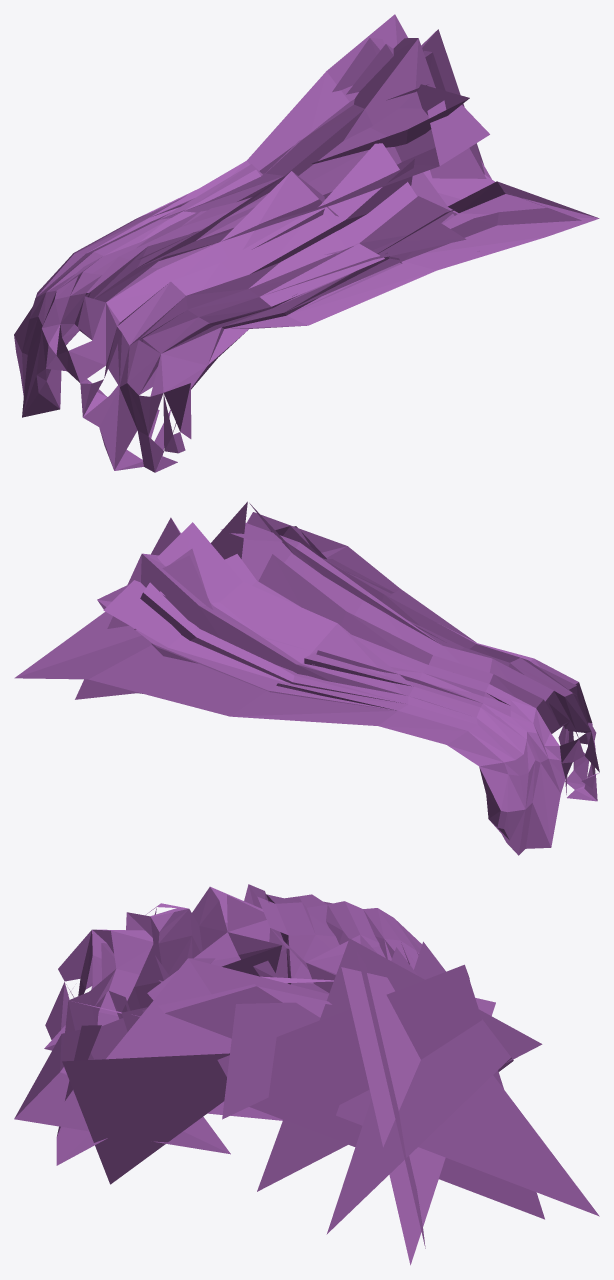
File: cape_purple.glb
3 renders of one model, top to bottom at view 1: azimuth 30°, elevation 25°; view 2: azimuth 150°, elevation 25°; view 3: azimuth 270°, elevation 25°, orthographic. The views are drawn at different scales.
Parts seen in each view (by area): view 1: group85531295; view 2: group85531295; view 3: group85531295.
Part boxes in pixels (left/top/right/bottom): group85531295: left=14, top=14, right=599, bottom=472; group85531295: left=14, top=501, right=599, bottom=855; group85531295: left=14, top=884, right=599, bottom=1265.
Bounding box in the file's own units: 0.8664 × 0.4546 × 0.6022.
